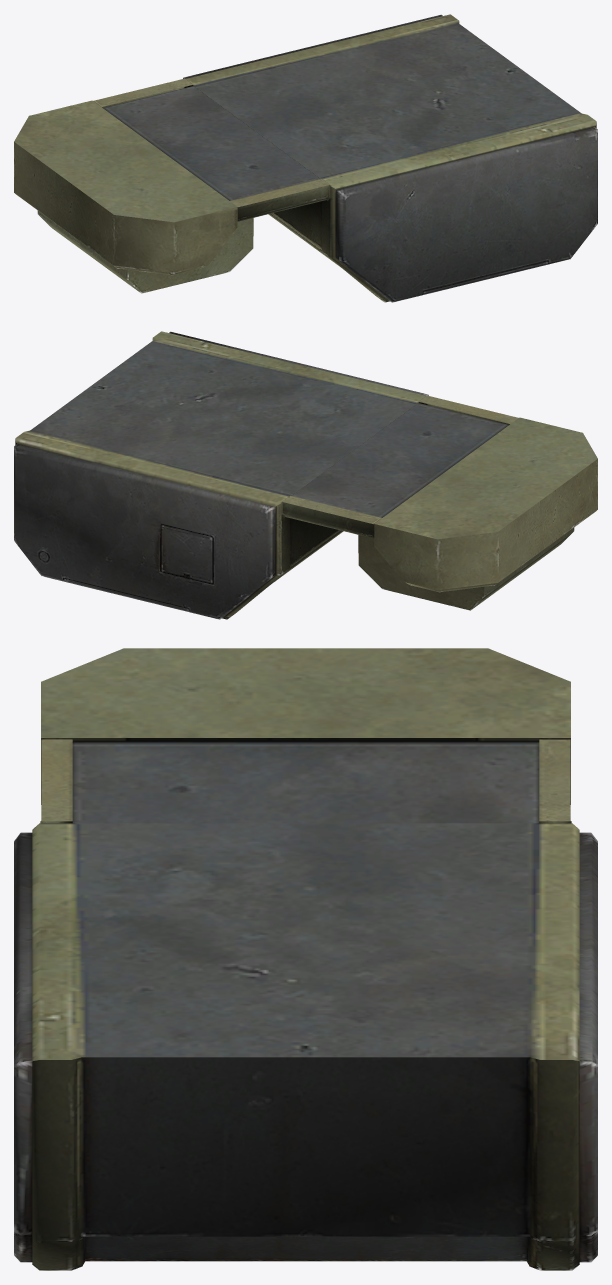
The model's file is terminal_server_room.DAE.
The picture shows the model from 3 angles, top to bottom: view 1: azimuth 30°, elevation 25°; view 2: azimuth 150°, elevation 25°; view 3: azimuth 270°, elevation 25°; orthographic projection. The views are drawn at different scales.
Visible parts, largest first — view 1: terminal_server_room; view 2: terminal_server_room; view 3: terminal_server_room.
Boxes of the visible parts, <box> form: terminal_server_room: <box>14,14,597,302</box>; terminal_server_room: <box>14,331,597,619</box>; terminal_server_room: <box>14,648,597,1270</box>.
Bounding box in the file's own units: 1.02 × 0.6189 × 0.2797.
